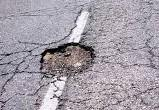pothole: (35, 39, 100, 82)
